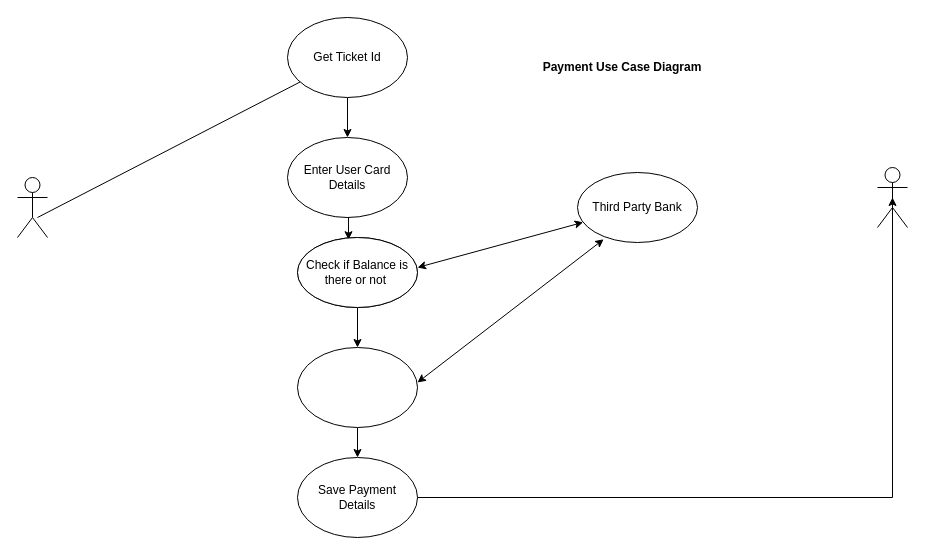
Image size: 930x555. Some labels were removed from this diagram. The centre of each missing label's shape, as x and y in pixels:
"Complete Payment" goes at point 357,387.
"System" goes at point 892,197.
"User" goes at point 32,207.
